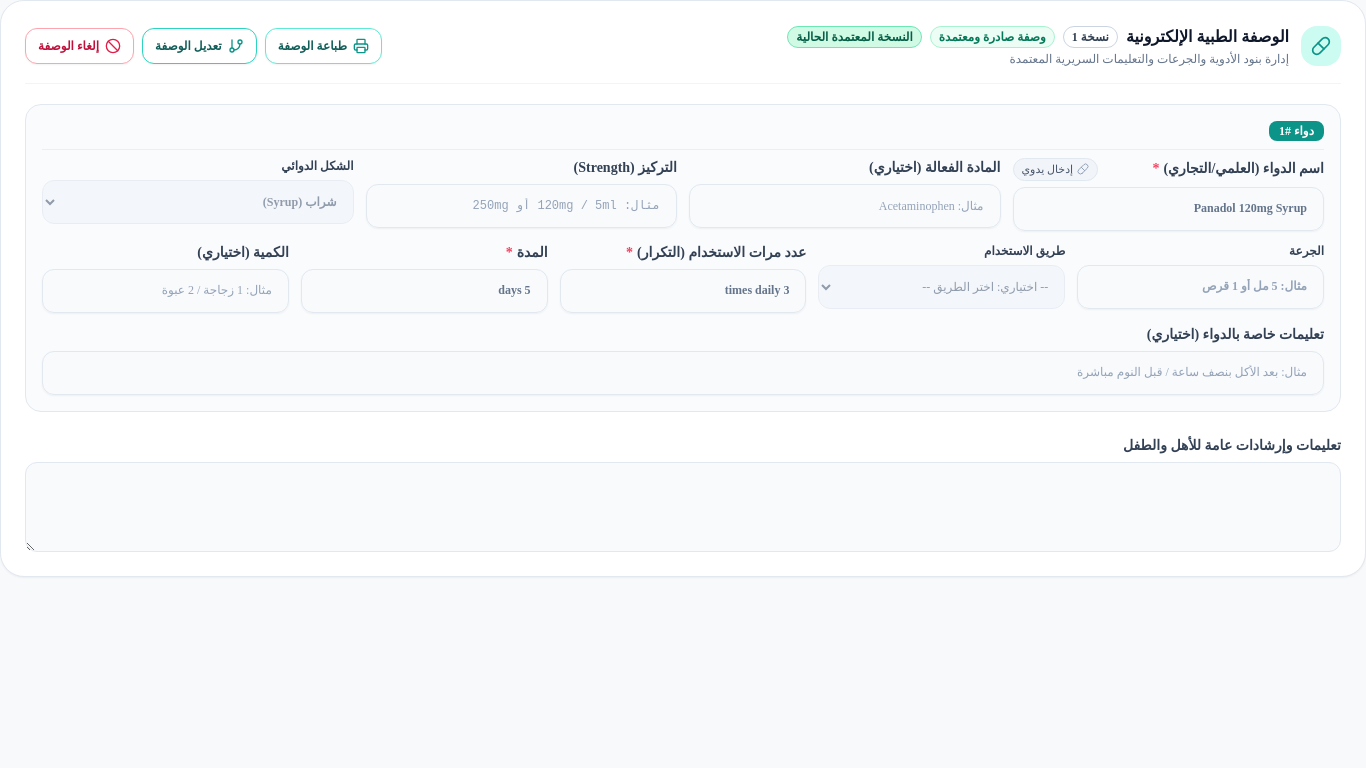
Test case: Fix Prescription Revision Number Allocation (حل تكرار رقم مراجعة الوصفة بعد الإلغاء) › 3. ElectronicPrescriptionSection UI Revision Number Display › creates revision 3 when requested after revision 2 was cancelled and displays correct badge
Click the button "تعديل الوصفة". click: click(199, 46)
box: [142,28,257,64]
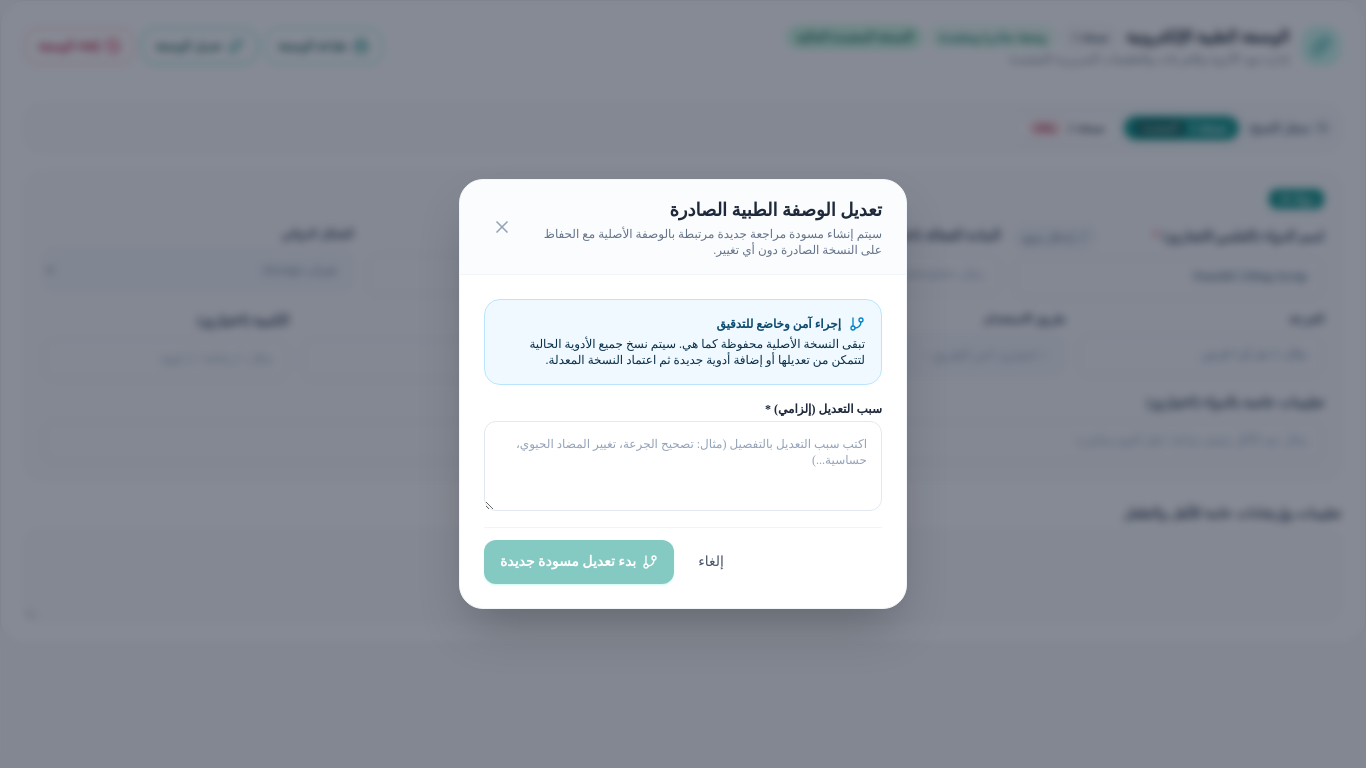
Expected: the text box with placeholder "سبب التعديل" is shown
Replace the text in the text box with placeholder "سبب التعديل" with "تعديل الجرعة بعد الإلغاء السابق". click: (683, 466)
box: [484,421,882,511]
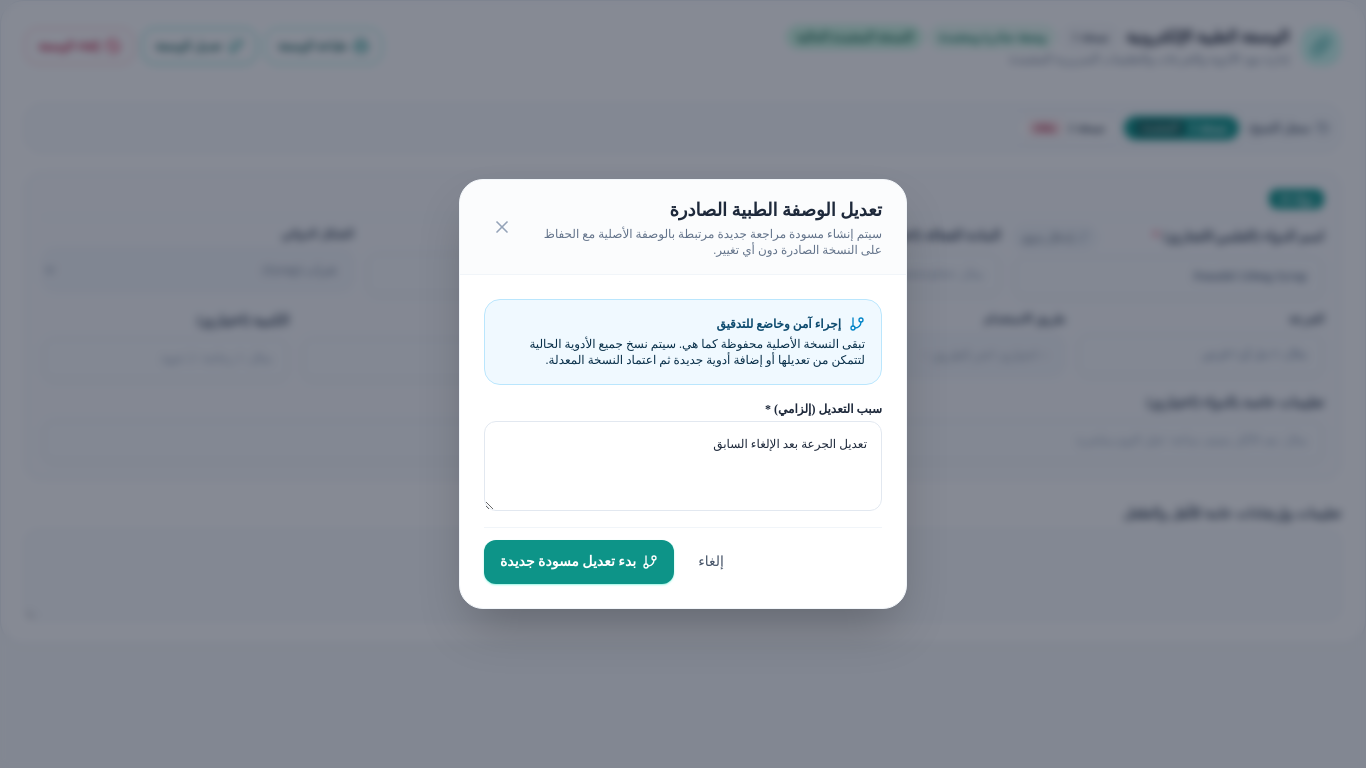
Click the button with test id "confirm-create-revision-btn". click: click(579, 562)
box: [484,540,674,584]
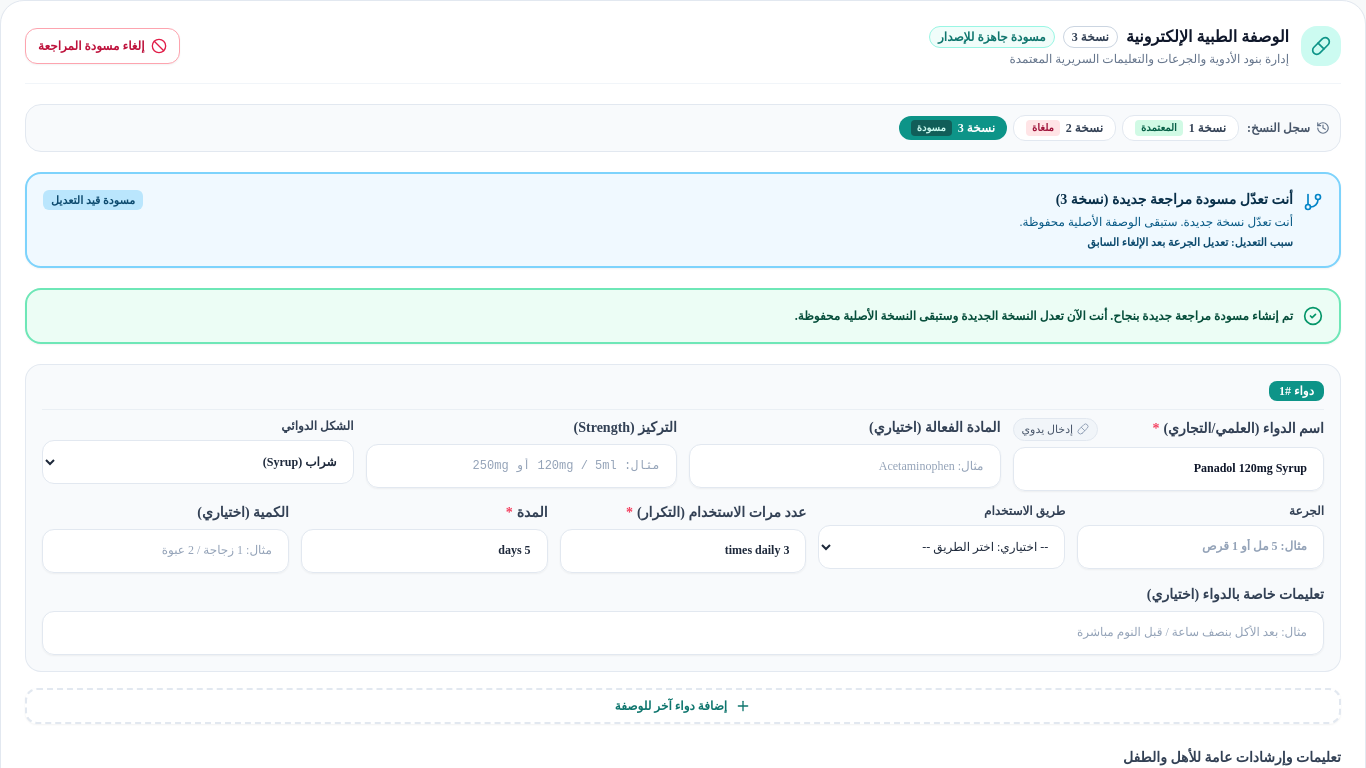
Expected: the text with test id "rx-revision-badge" reads "نسخة 3", [1072,30,1109,44]
Expected: the button with test id "cancel-revision-draft-btn" is shown, [25,28,180,64]
